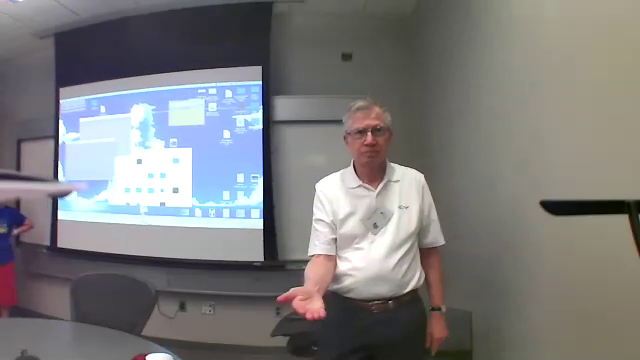land: (271, 282, 336, 324)
